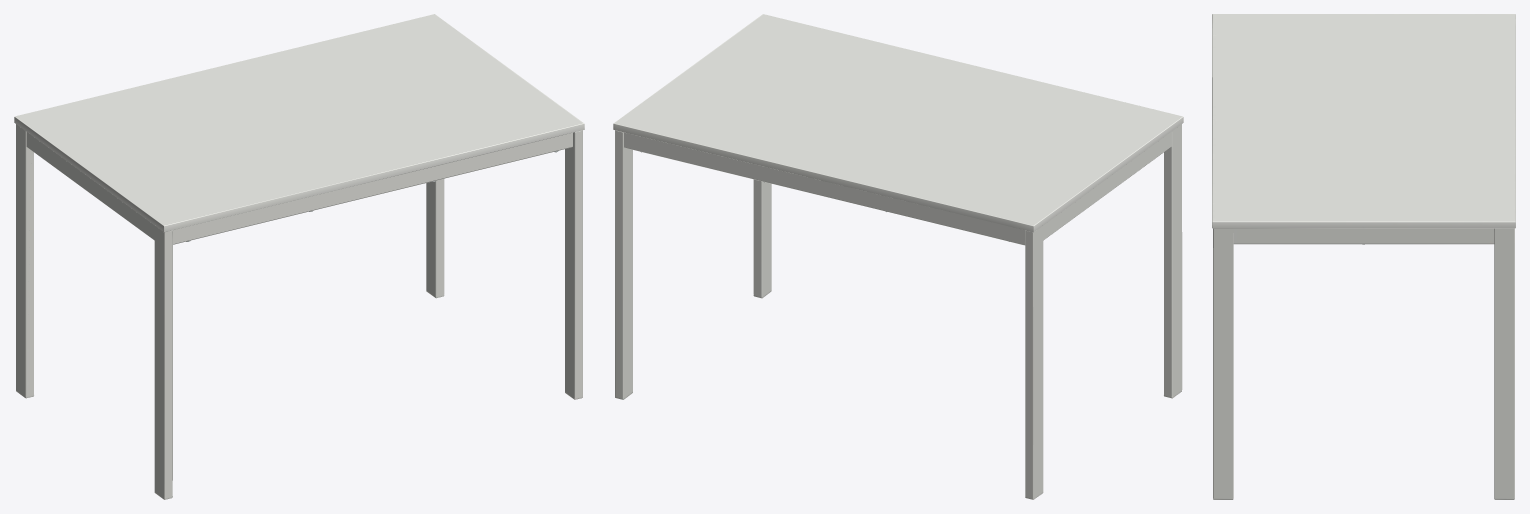
File: vihals_extendable_table_white.glb
The picture shows the model from 3 angles, left to right: view 1: azimuth 30°, elevation 25°; view 2: azimuth 150°, elevation 25°; view 3: azimuth 270°, elevation 25°; orthographic projection.
Visible parts, largest first — view 1: ASY_ART_20589777_S01_NV01; view 2: ASY_ART_20589777_S01_NV01; view 3: ASY_ART_20589777_S01_NV01.
Part boxes in pixels (left/top/right/bottom): ASY_ART_20589777_S01_NV01: left=14, top=14, right=584, bottom=499; ASY_ART_20589777_S01_NV01: left=613, top=14, right=1183, bottom=499; ASY_ART_20589777_S01_NV01: left=1212, top=14, right=1515, bottom=499.
Bounding box in the file's own units: 1.2 × 0.7492 × 0.7398.
Materials: 1 (1 with a texture image).
